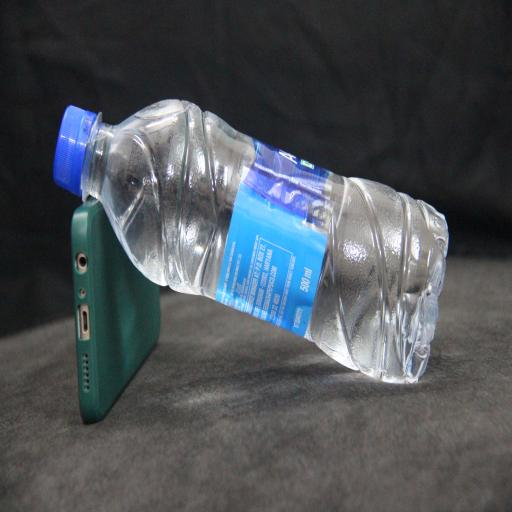Aquafina: (44, 88, 456, 395)
